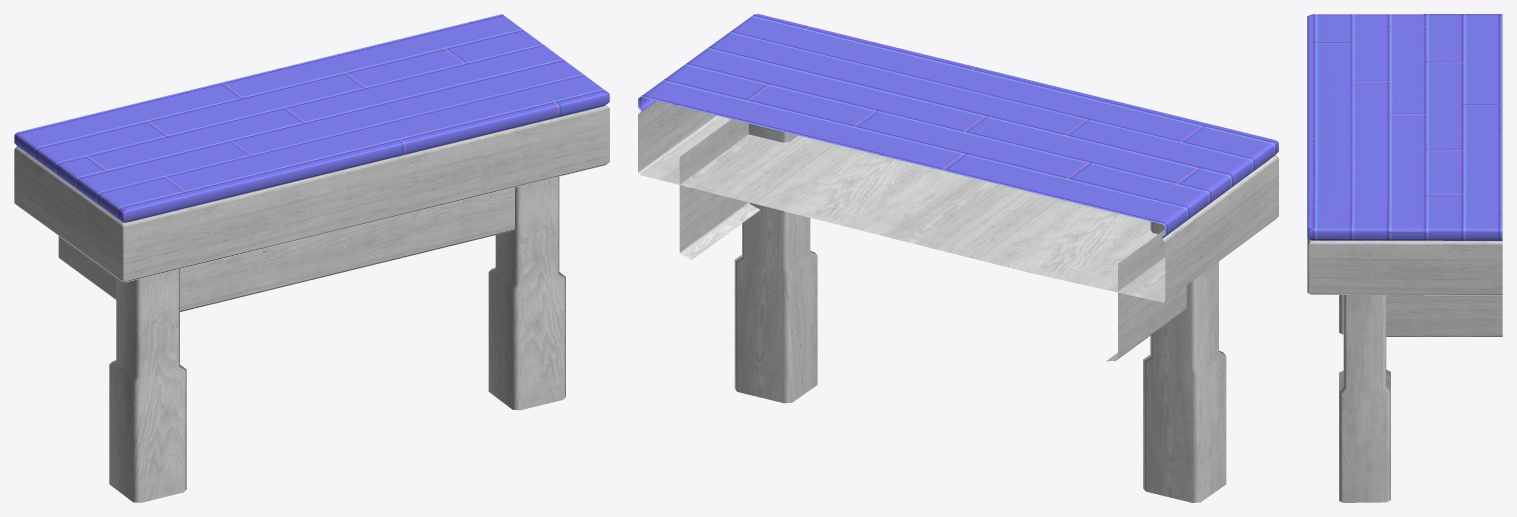
Rendered from Terrace_Base_D.fbx.
3 renders of one model, left to right at view 1: azimuth 30°, elevation 25°; view 2: azimuth 150°, elevation 25°; view 3: azimuth 270°, elevation 25°, orthographic. The views are drawn at different scales.
Visible parts, largest first — view 1: Terrace_Base_D; view 2: Terrace_Base_D; view 3: Terrace_Base_D.
Part boxes in pixels (bbox=[...]): Terrace_Base_D: bbox=[14, 14, 609, 502]; Terrace_Base_D: bbox=[638, 14, 1278, 502]; Terrace_Base_D: bbox=[1307, 14, 1502, 502].
Size of the model in its own units: 195 by 119 by 74.1.
